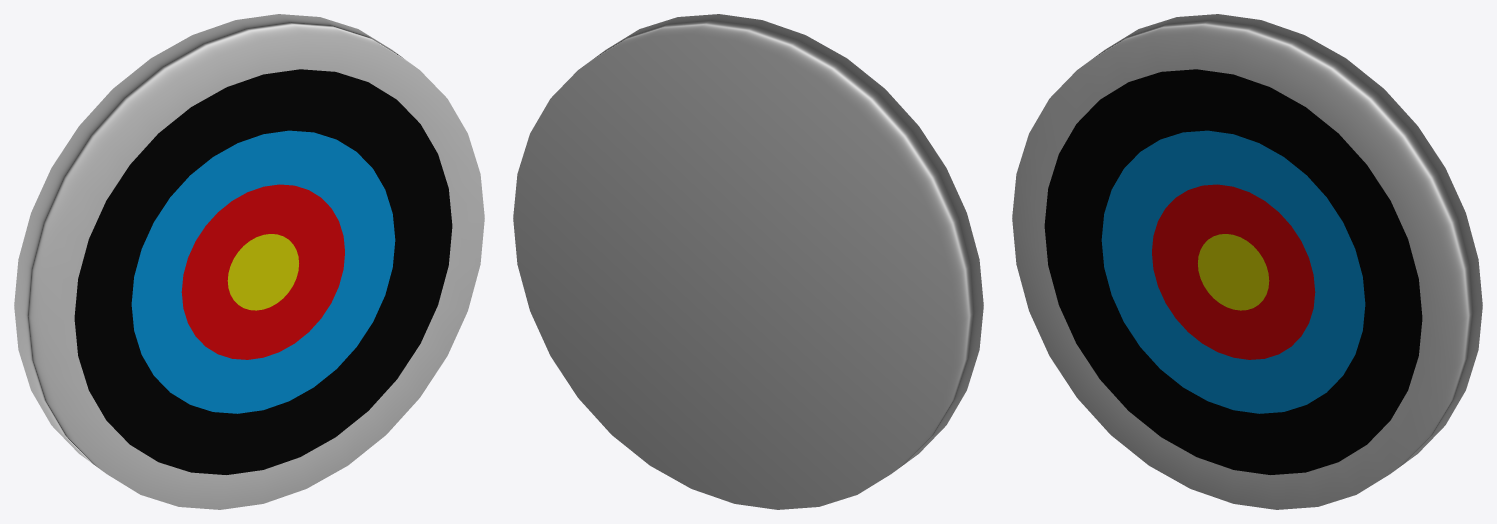
File: TargetBoard.fbx
The picture shows the model from 3 angles, left to right: view 1: azimuth 30°, elevation 25°; view 2: azimuth 150°, elevation 25°; view 3: azimuth 330°, elevation 25°; orthographic projection.
Visible parts, largest first — view 1: Cylinder; view 2: Cylinder; view 3: Cylinder.
Boxes of the visible parts, left/top/right/bottom form: Cylinder: left=14, top=14, right=484, bottom=509; Cylinder: left=513, top=14, right=983, bottom=509; Cylinder: left=1012, top=14, right=1482, bottom=509.
Size of the model in its own units: 542 by 542 by 59.21.
